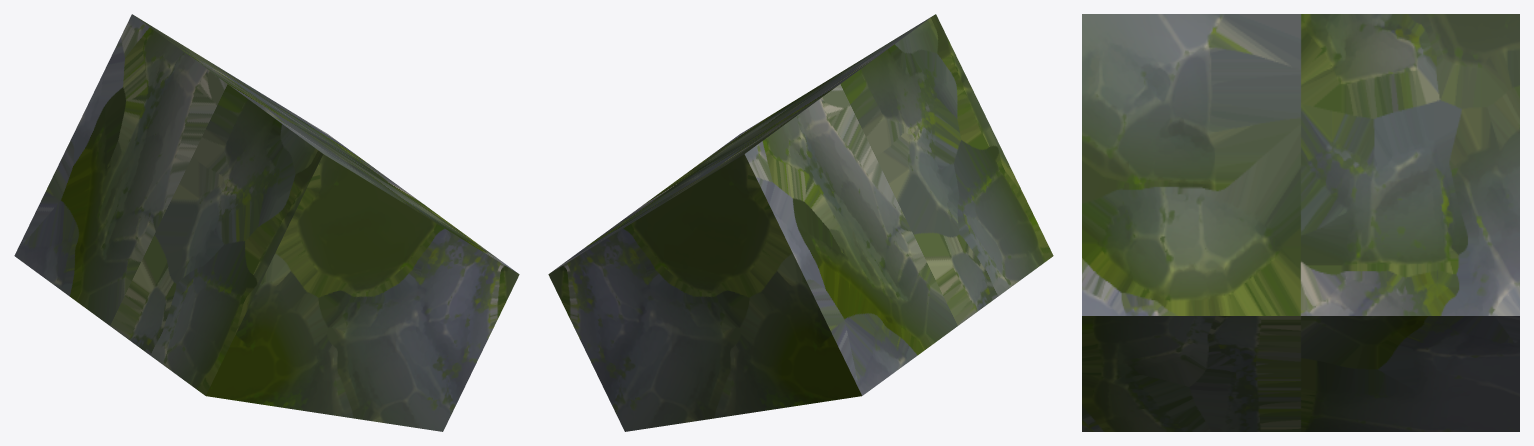
The model's file is Arch_Voussoir_08.glb.
3 views of the same model, side by side, from view 1: azimuth 30°, elevation 25°; view 2: azimuth 150°, elevation 25°; view 3: azimuth 270°, elevation 25° (orthographic). The views are drawn at different scales.
Parts seen in each view (by area): view 1: Arch_Voussoir_08__Arch_Voussoir_08; view 2: Arch_Voussoir_08__Arch_Voussoir_08; view 3: Arch_Voussoir_08__Arch_Voussoir_08.
Part boxes in pixels (x1,y1,x2,y2): Arch_Voussoir_08__Arch_Voussoir_08: [14, 14, 519, 431]; Arch_Voussoir_08__Arch_Voussoir_08: [548, 14, 1053, 431]; Arch_Voussoir_08__Arch_Voussoir_08: [1082, 14, 1519, 431].
Size of the model in its own units: 0.9282 by 0.8676 by 0.98.
Materials: 1 (1 with a texture image).
